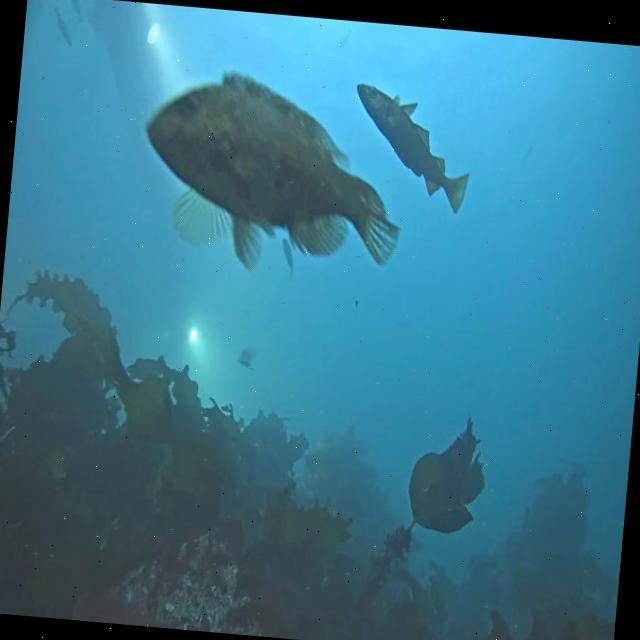fish: (132, 62, 412, 282), (346, 80, 476, 214), (50, 5, 74, 42), (278, 238, 297, 277), (68, 0, 84, 20)
